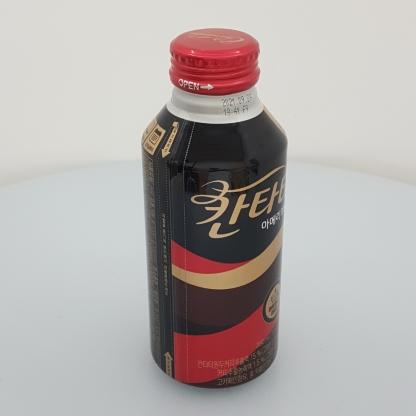--B_F---------: (141, 28, 288, 389)
